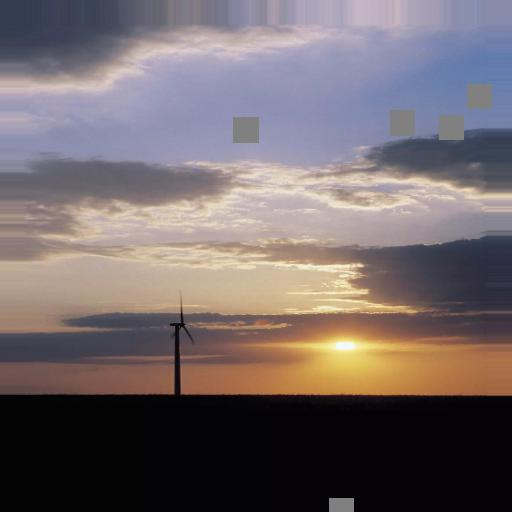wind turbine: (166, 291, 197, 396)
